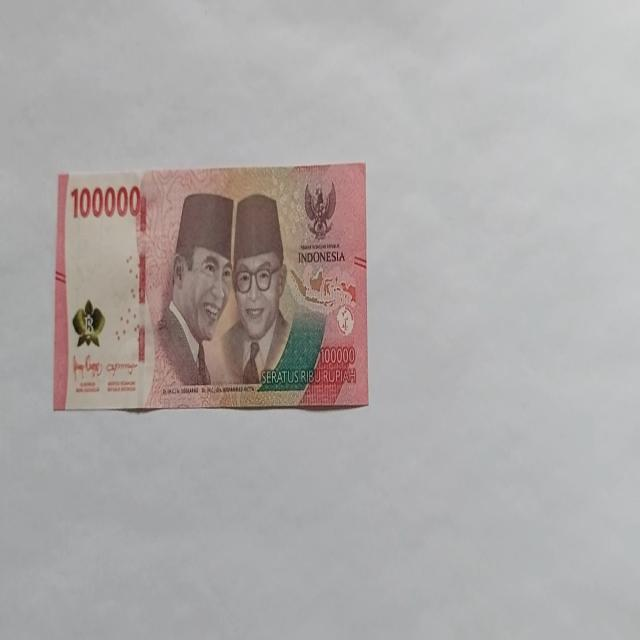seratus ribu rupiah: (53, 162, 369, 412), (144, 190, 234, 406)
